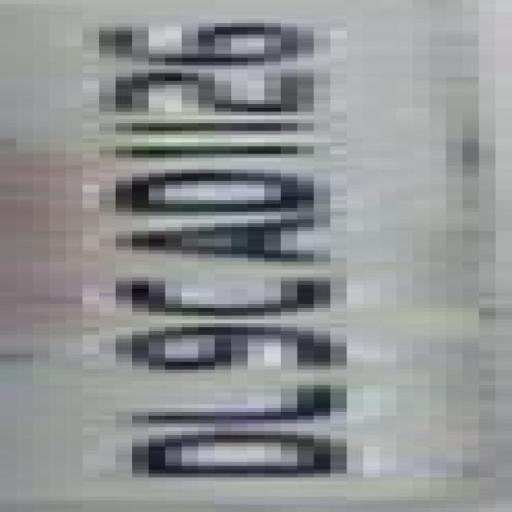number plate: (50, 62, 479, 462)
